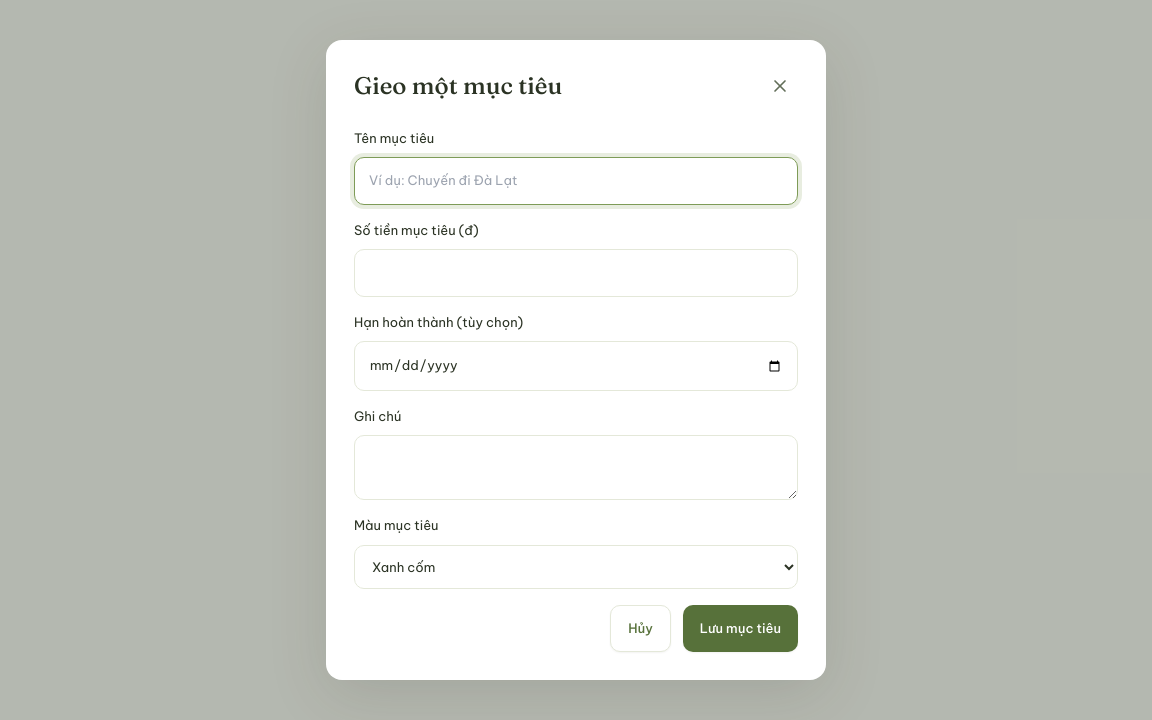
mục tiêu kiểm tra tên và số tiền trước khi gửi
The width and height of the screenshot is (1152, 720).
Step 1. Click the button "Lưu mục tiêu" → click(740, 629), box [683,605,798,652]
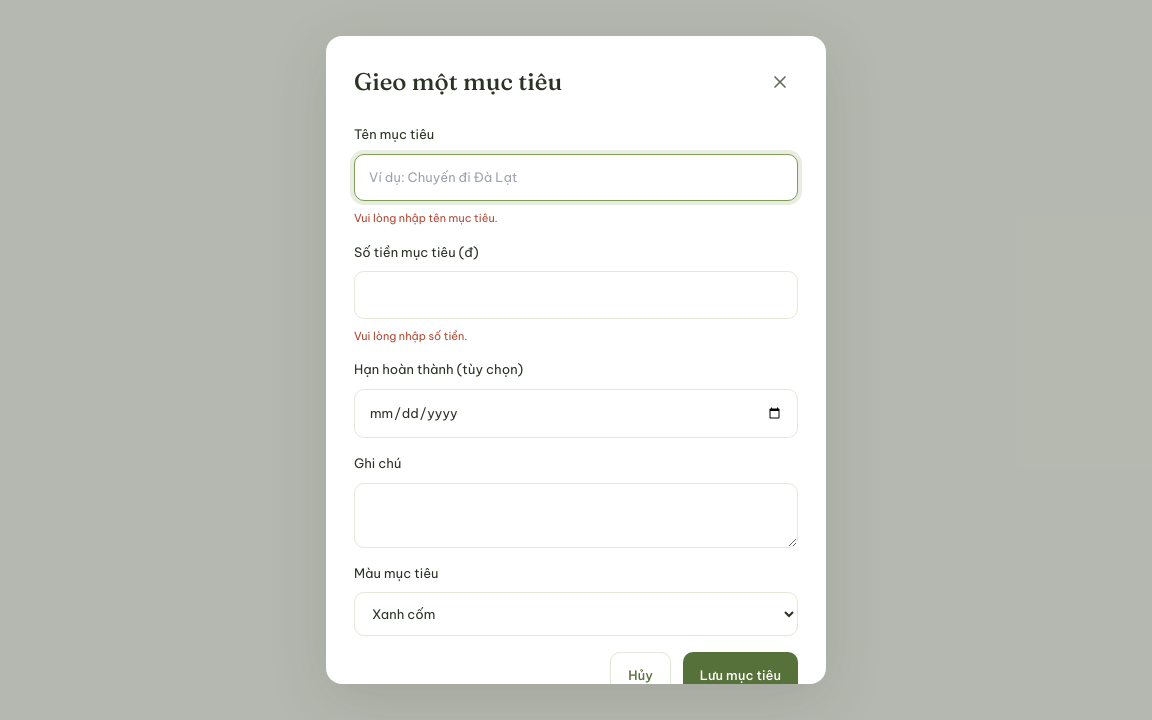
expect the text "Vui lòng nhập tên mục tiêu." is shown: met, box [354,211,498,225]
expect the text "Vui lòng nhập số tiền." is shown: met, box [354,328,468,342]
